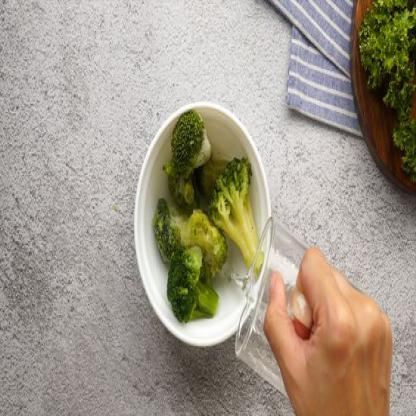broccoli: (150, 109, 264, 325), (356, 0, 416, 183)
